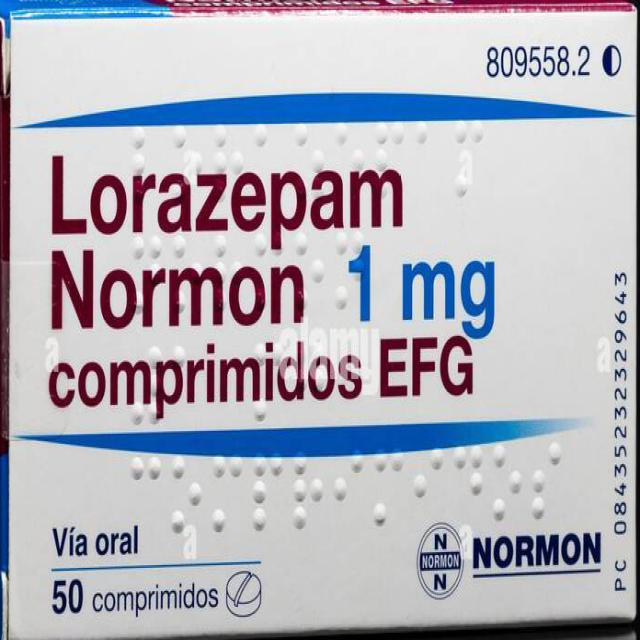drug-name: (46, 142, 414, 249)
